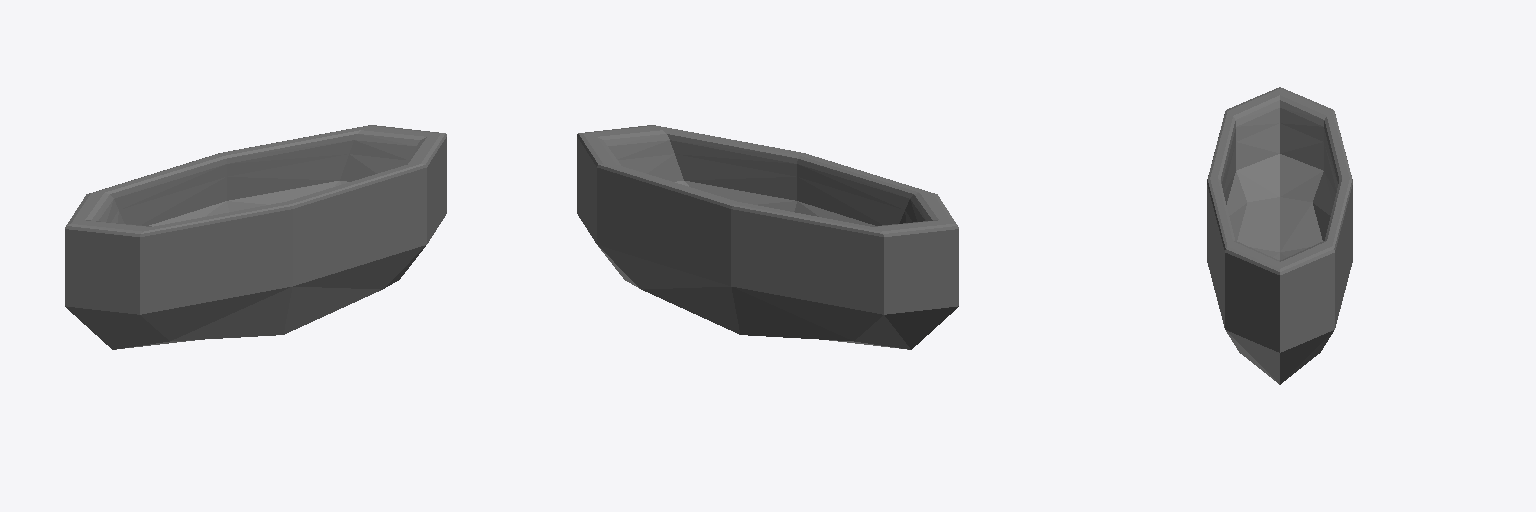
File: basket.obj
The picture shows the model from 3 angles: view 1: azimuth 30°, elevation 25°; view 2: azimuth 150°, elevation 25°; view 3: azimuth 270°, elevation 25°; orthographic projection.
Parts seen in each view (by area): view 1: pCube2; view 2: pCube2; view 3: pCube2.
Boxes of the visible parts, <box> form: pCube2: <box>65,125,446,349</box>; pCube2: <box>577,125,958,349</box>; pCube2: <box>1207,87,1352,384</box>.
Size of the model in its own units: 2.97 by 1.15 by 0.9841.